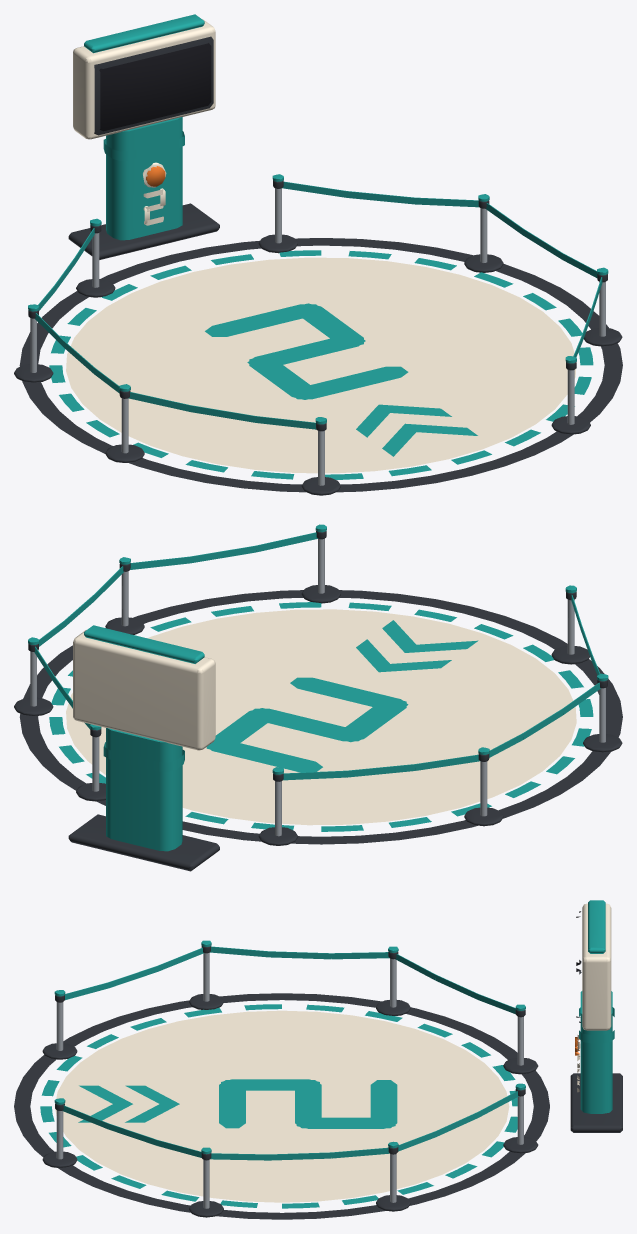
The model's file is PuertaSala2.fbx.
3 views of the same model, one above another, from view 1: azimuth 30°, elevation 25°; view 2: azimuth 150°, elevation 25°; view 3: azimuth 270°, elevation 25° (orthographic). The views are drawn at different scales.
Visible parts, largest first — view 1: PuertaSala2; view 2: PuertaSala2; view 3: PuertaSala2.
Part boxes in pixels (x1,y1,x2,y2): PuertaSala2: [14, 14, 622, 495]; PuertaSala2: [14, 524, 622, 871]; PuertaSala2: [14, 900, 622, 1219].
Bounding box in the file's own units: 9.2 × 3.47 × 10.45.
Materials: 1 (1 with a texture image).
